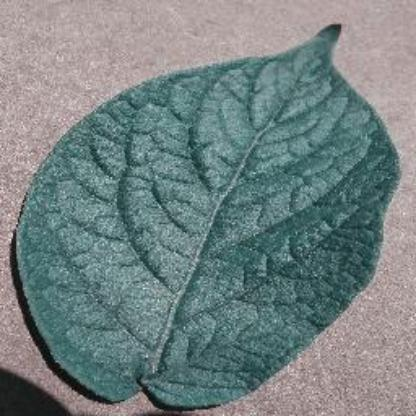Healthy-plant: (11, 19, 401, 416)
